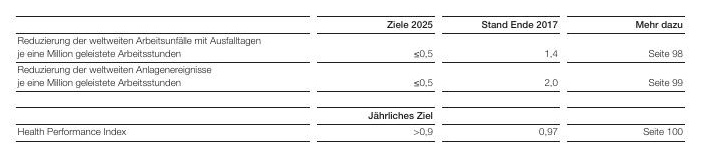table: (0, 0, 706, 153)
